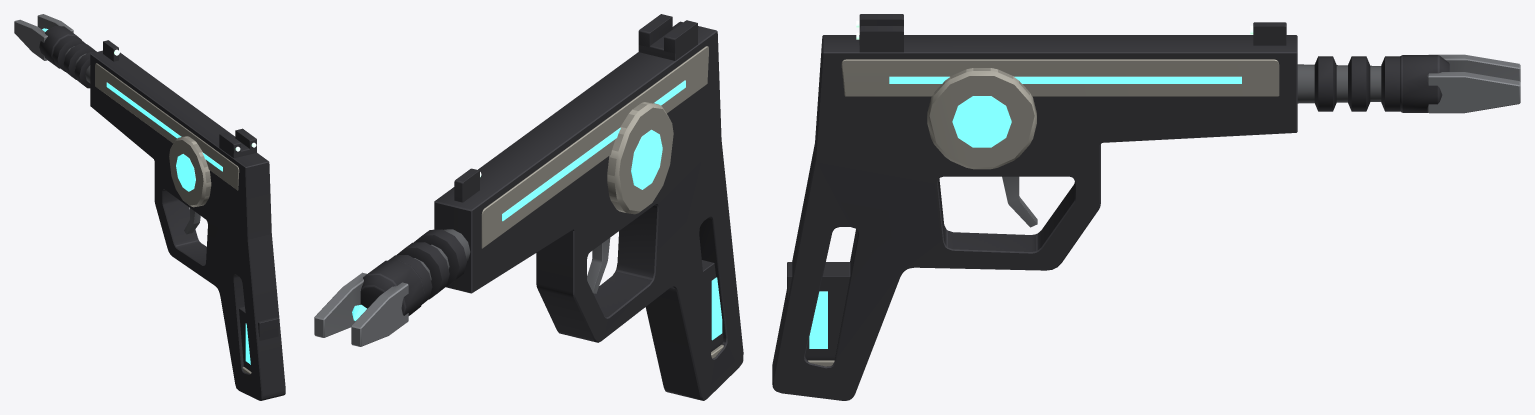
File: e_revolver.glb
3 views of the same model, side by side, from view 1: azimuth 30°, elevation 25°; view 2: azimuth 150°, elevation 25°; view 3: azimuth 270°, elevation 25° (orthographic). The views are drawn at different scales.
Visible parts, largest first — view 1: Body, IronSight, Cell; view 2: Body, IronSight, Cell; view 3: Body, Cell, IronSight.
Part boxes in pixels (box(x1,y1,x2,y2)): Body: box(14, 14, 285, 400); IronSight: box(103, 40, 256, 158); Cell: box(239, 306, 278, 373); Body: box(314, 21, 743, 400); IronSight: box(454, 14, 697, 202); Cell: box(702, 260, 723, 358); Body: box(772, 35, 1520, 400); Cell: box(787, 262, 850, 366); IronSight: box(856, 14, 1286, 52).
Bounding box in the file's own units: 0.0372 × 0.2198 × 0.4029.
